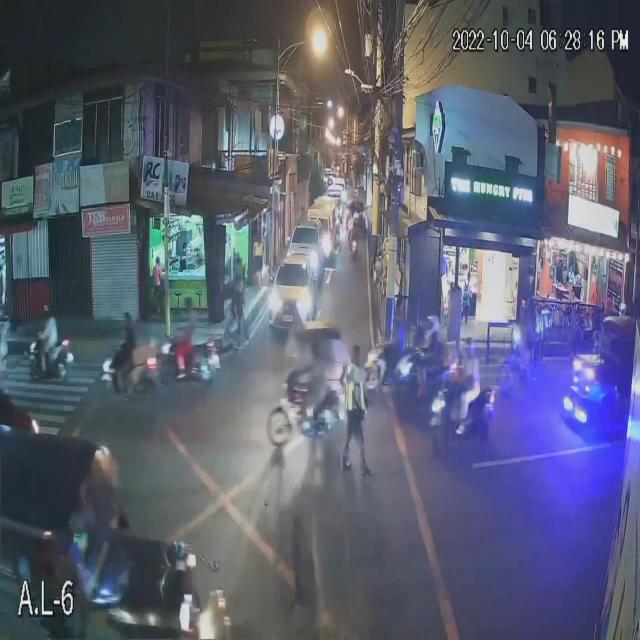Full-Faced: (426, 308, 443, 340), (459, 334, 476, 356), (182, 291, 198, 313), (119, 307, 135, 327), (41, 296, 54, 318)
